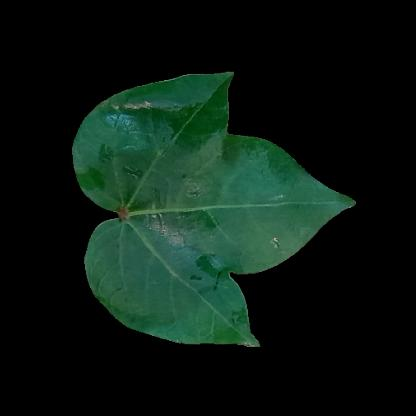healthy: (121, 159, 283, 261), (106, 107, 220, 189), (120, 258, 220, 328), (277, 174, 329, 242)
